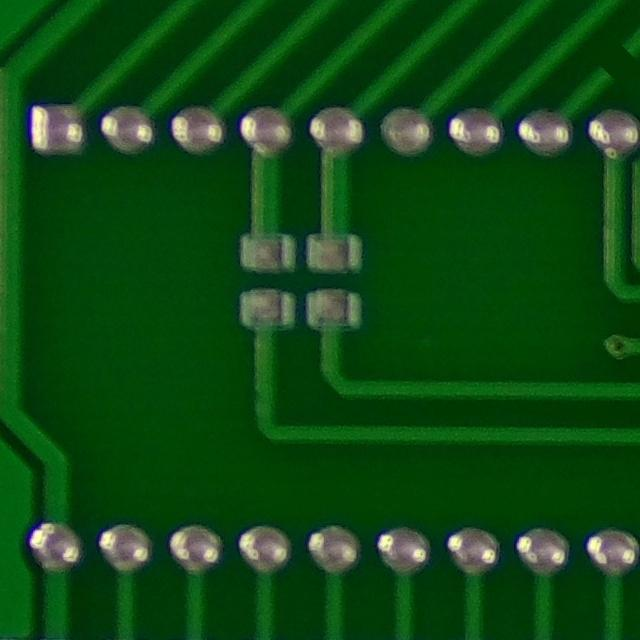open_circuit: (591, 36, 639, 88)
